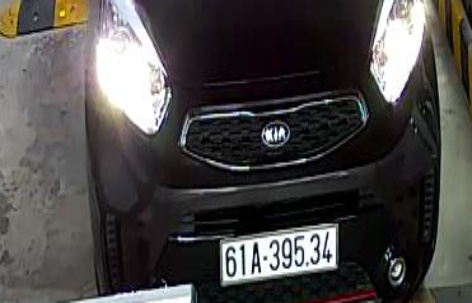plate: (210, 218, 348, 279)
